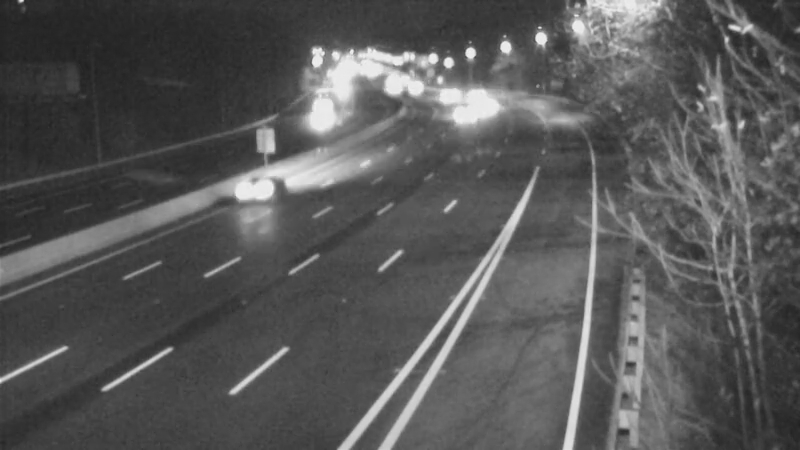vehicle: (217, 149, 297, 229), (392, 59, 442, 109), (370, 64, 420, 114), (424, 73, 474, 123), (450, 72, 500, 122), (460, 87, 510, 137), (436, 81, 486, 131), (292, 94, 342, 144)
